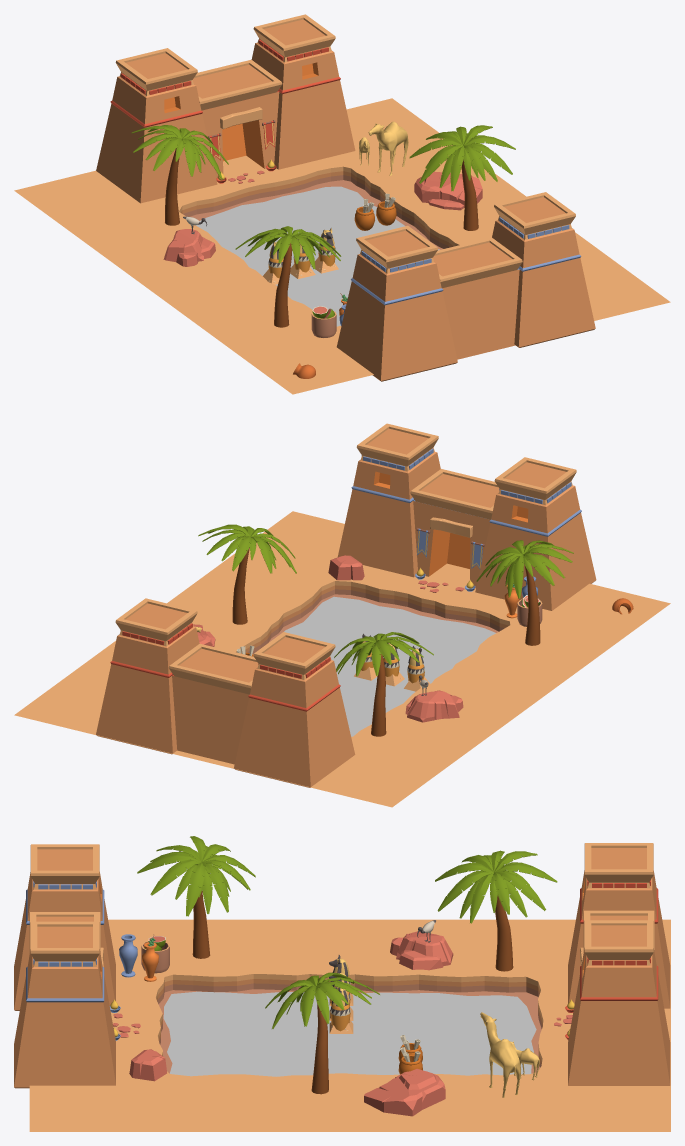
Rendered from egypt.fbx.
The picture shows the model from 3 angles, top to bottom: view 1: azimuth 30°, elevation 25°; view 2: azimuth 150°, elevation 25°; view 3: azimuth 270°, elevation 25°; orthographic projection. The views are drawn at different scales.
Visible parts, largest first — view 1: Cube.003, Enter.001, Enter, Plane.007, trunk.001, trunk.002, trunk.003, Cube.004, Cube.007, Stable_001_geo.001, EgyptScene.003; view 2: Cube.003, Enter, Enter.001, Plane.007, trunk.003, trunk.001, trunk.002, Cube.007, Cube.006; view 3: Cube.003, Plane.007, Enter, Enter.001, trunk.002, trunk.003, trunk.001, Cube.004, Cube.007, Stable_001_geo.001, Cube.006, EgyptScene.006 (+3 smaller).
Part boxes in pixels (bbox=[...]): Cube.003: bbox=[14, 98, 670, 394]; Enter.001: bbox=[336, 192, 595, 381]; Enter: bbox=[96, 14, 355, 203]; Plane.007: bbox=[196, 186, 439, 326]; trunk.001: bbox=[409, 125, 515, 230]; trunk.002: bbox=[131, 125, 228, 225]; trunk.003: bbox=[235, 226, 341, 327]; Cube.004: bbox=[414, 171, 482, 210]; Cube.007: bbox=[163, 229, 215, 266]; Stable_001_geo.001: bbox=[368, 121, 408, 175]; EgyptScene.003: bbox=[311, 306, 336, 337]; Cube.003: bbox=[14, 511, 670, 807]; Enter: bbox=[96, 598, 355, 787]; Enter.001: bbox=[337, 423, 596, 610]; Plane.007: bbox=[284, 596, 495, 736]; trunk.003: bbox=[476, 540, 573, 645]; trunk.001: bbox=[198, 524, 296, 624]; trunk.002: bbox=[334, 632, 433, 736]; Cube.007: bbox=[405, 690, 463, 722]; Cube.006: bbox=[328, 555, 364, 580]; Cube.003: bbox=[29, 919, 670, 1131]; Plane.007: bbox=[163, 991, 536, 1076]; Enter: bbox=[568, 843, 670, 1085]; Enter.001: bbox=[14, 844, 115, 1088]; trunk.002: bbox=[435, 850, 557, 971]; trunk.003: bbox=[137, 836, 255, 958]; trunk.001: bbox=[265, 972, 379, 1094]; Cube.004: bbox=[364, 1068, 445, 1116]; Cube.007: bbox=[390, 931, 453, 970]; Stable_001_geo.001: bbox=[480, 1012, 520, 1097]; Cube.006: bbox=[129, 1049, 166, 1081]; EgyptScene.006: bbox=[119, 934, 137, 977].
Bounding box in the file's own units: 10 × 3.2 × 13.08.
